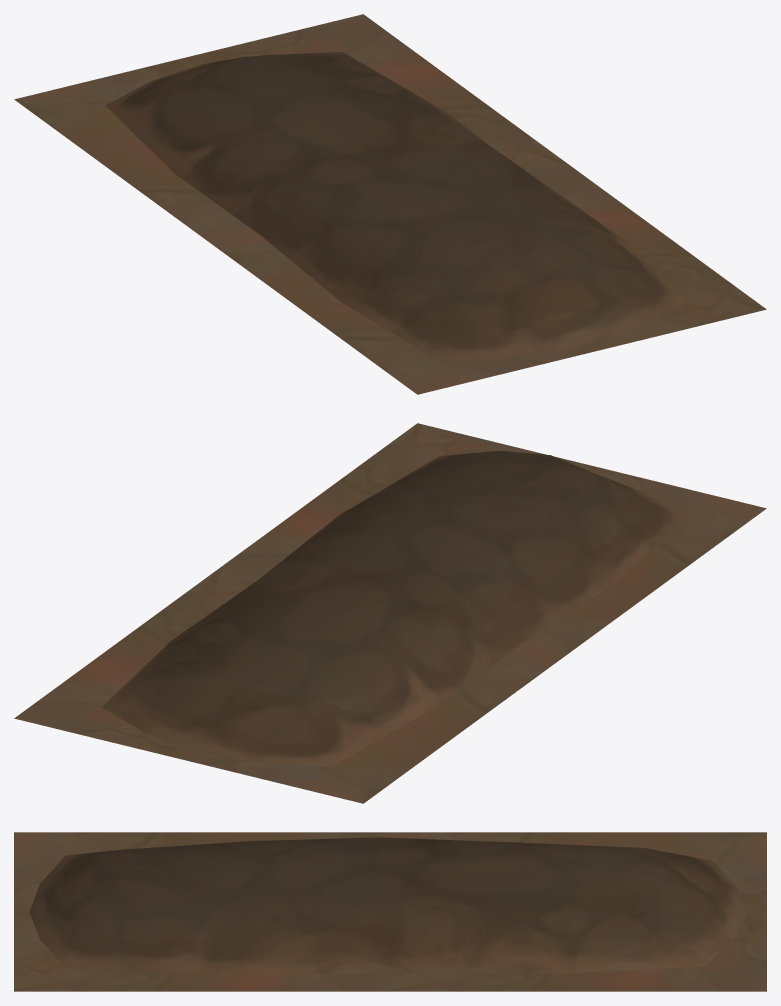
Rendered from grave.fbx.
3 renders of one model, top to bottom at view 1: azimuth 30°, elevation 25°; view 2: azimuth 150°, elevation 25°; view 3: azimuth 270°, elevation 25°, orthographic. The views are drawn at different scales.
Visible parts, largest first — view 1: grave; view 2: grave; view 3: grave.
Part boxes in pixels (x1,y1,x2,y2): grave: (14,14,766,394); grave: (14,423,766,803); grave: (14,832,766,991).
Size of the model in its own units: 300 by 34.45 by 600.
